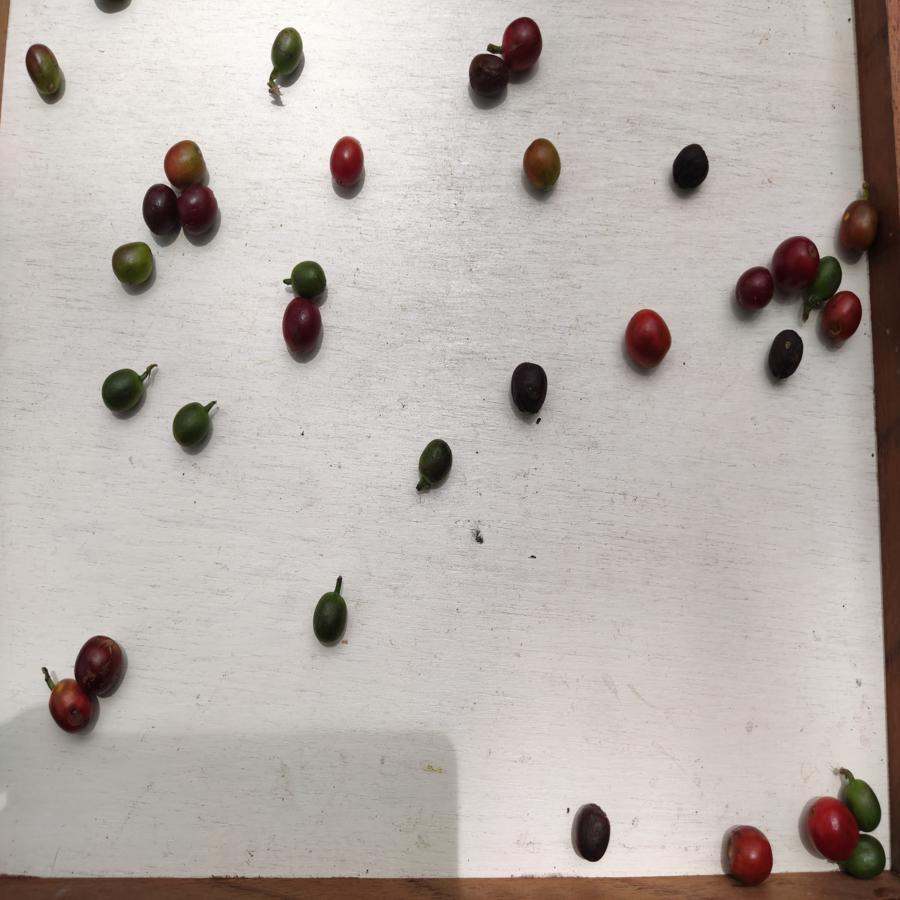Inmaduro: (844, 776, 884, 829), (416, 437, 455, 489), (268, 27, 304, 83), (100, 367, 142, 415), (171, 402, 211, 452), (312, 591, 348, 644), (286, 260, 328, 298), (850, 842, 888, 882), (817, 254, 843, 296)
Maduro: (805, 797, 859, 859), (724, 824, 774, 885), (624, 308, 672, 369), (773, 236, 817, 291), (46, 689, 93, 736), (328, 137, 367, 190), (828, 289, 862, 341)
Pinton: (837, 199, 881, 259), (20, 46, 66, 95), (521, 137, 561, 193), (159, 140, 207, 186), (111, 238, 151, 286)
Sobremaduro: (72, 634, 121, 694), (568, 802, 613, 863), (173, 185, 220, 241), (140, 182, 182, 240), (502, 13, 543, 70), (279, 298, 322, 352), (507, 362, 551, 411), (764, 329, 804, 380), (467, 54, 511, 98), (669, 142, 709, 190), (729, 268, 772, 312)
